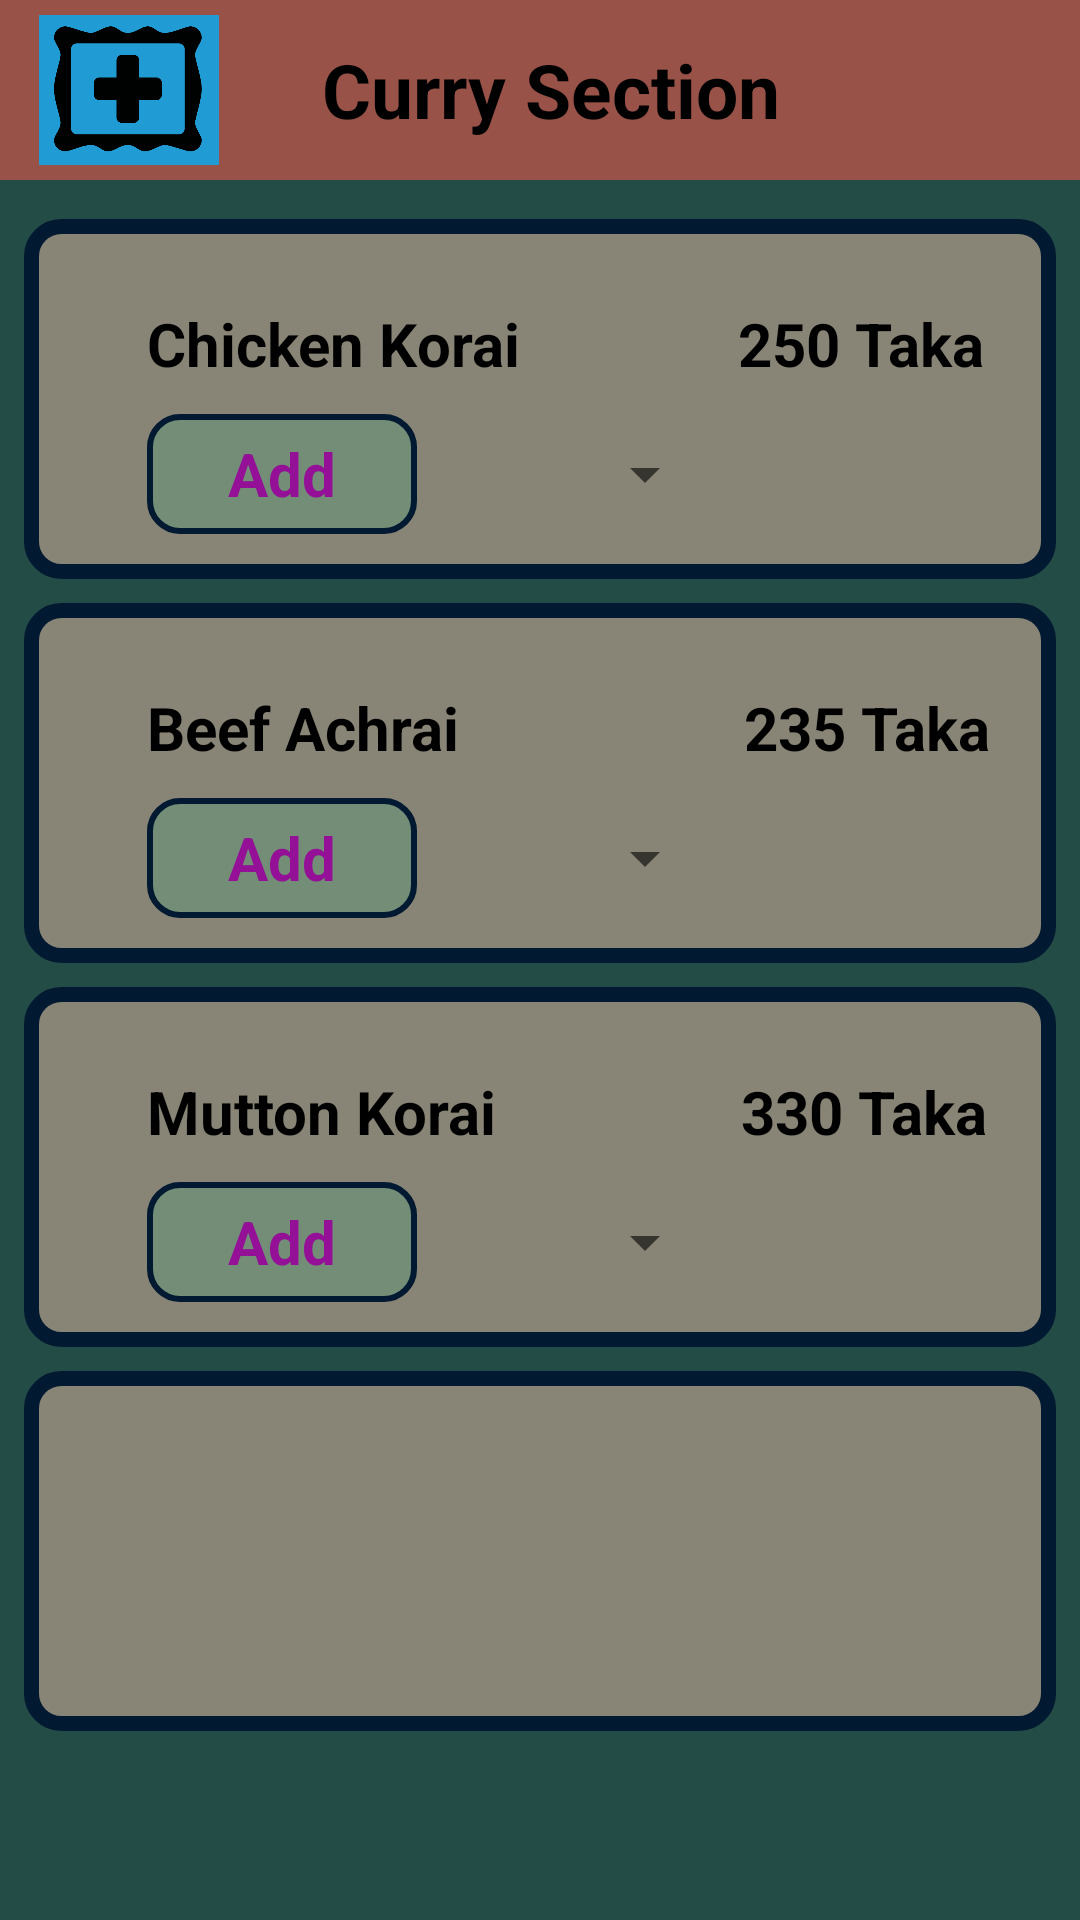

Named icons in this screenshot (1080×1920) and their centers, (x=x, y=y):
add: (x=129, y=90)
